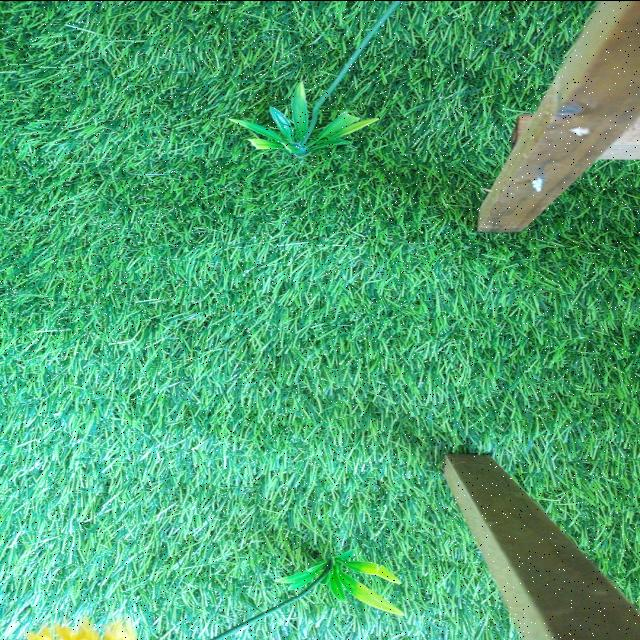base: (230, 84, 374, 156), (277, 551, 403, 615)
flower: (22, 620, 152, 640)
